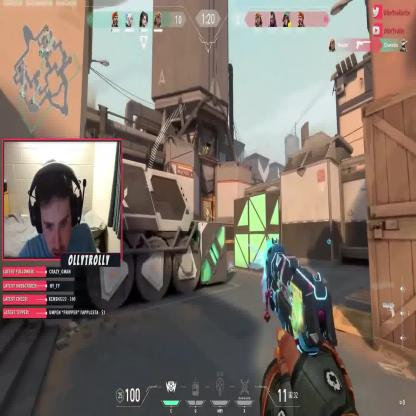enemy: (206, 207, 209, 222)
enemy_head: (206, 207, 208, 211)
